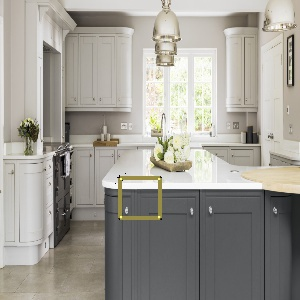square: (116, 173, 164, 222)
